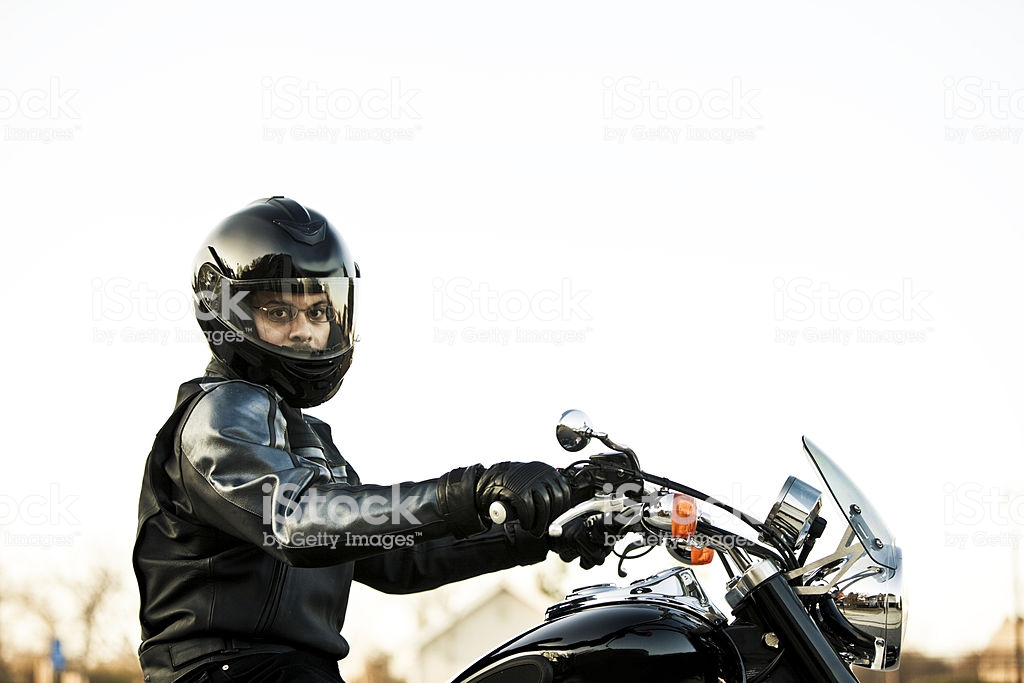helmet: (192, 203, 366, 398)
